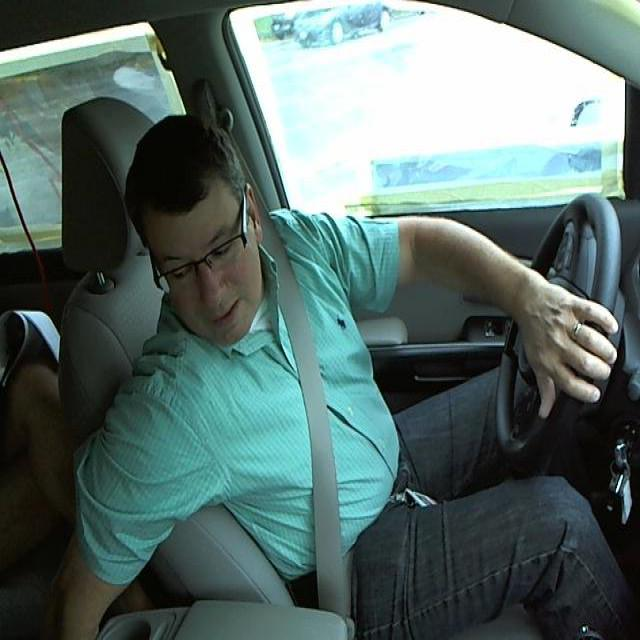seatbelt: (267, 263, 375, 606)
